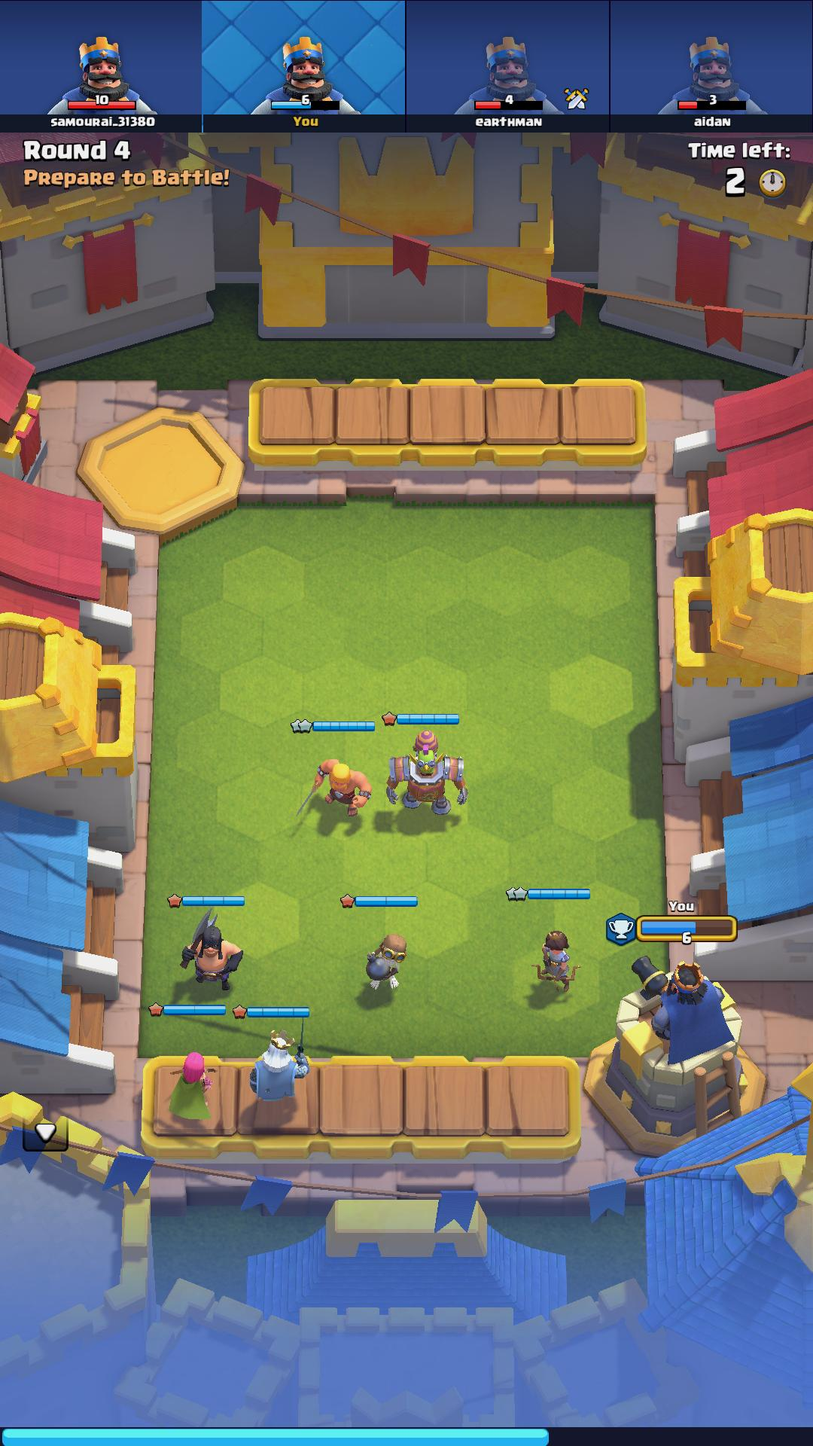archer: (163, 1039, 231, 1127)
barbarian: (297, 754, 374, 822)
bomber: (356, 928, 415, 999)
executioner: (177, 910, 248, 990)
ghost: (242, 1019, 315, 1112)
machine: (381, 727, 474, 821)
princess: (527, 923, 581, 997)
